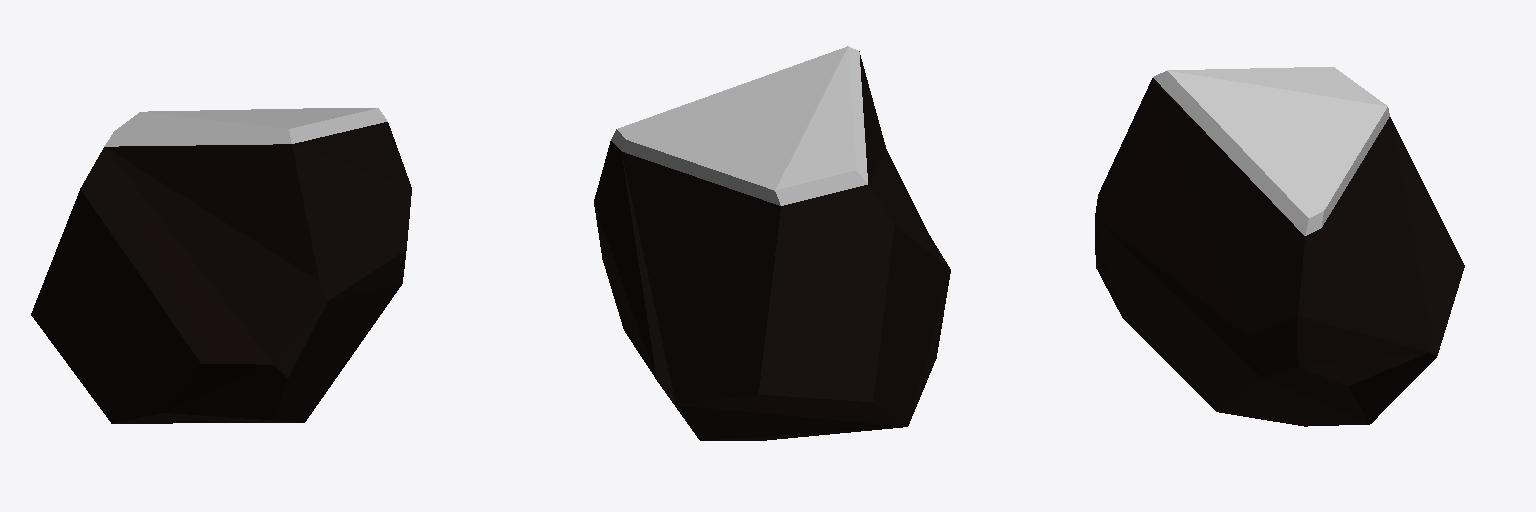
Rendered from Rock_6.obj.
3 views of the same model, side by side, from view 1: azimuth 30°, elevation 25°; view 2: azimuth 150°, elevation 25°; view 3: azimuth 270°, elevation 25° (orthographic).
Visible parts, largest first — view 1: Cube.002_Cube.011; view 2: Cube.002_Cube.011; view 3: Cube.002_Cube.011.
Boxes of the visible parts, x1,y1,x2,y2 form: Cube.002_Cube.011: [31, 108, 411, 423]; Cube.002_Cube.011: [594, 46, 950, 440]; Cube.002_Cube.011: [1095, 67, 1464, 426].
Size of the model in its own units: 1.38 by 1.39 by 1.34.